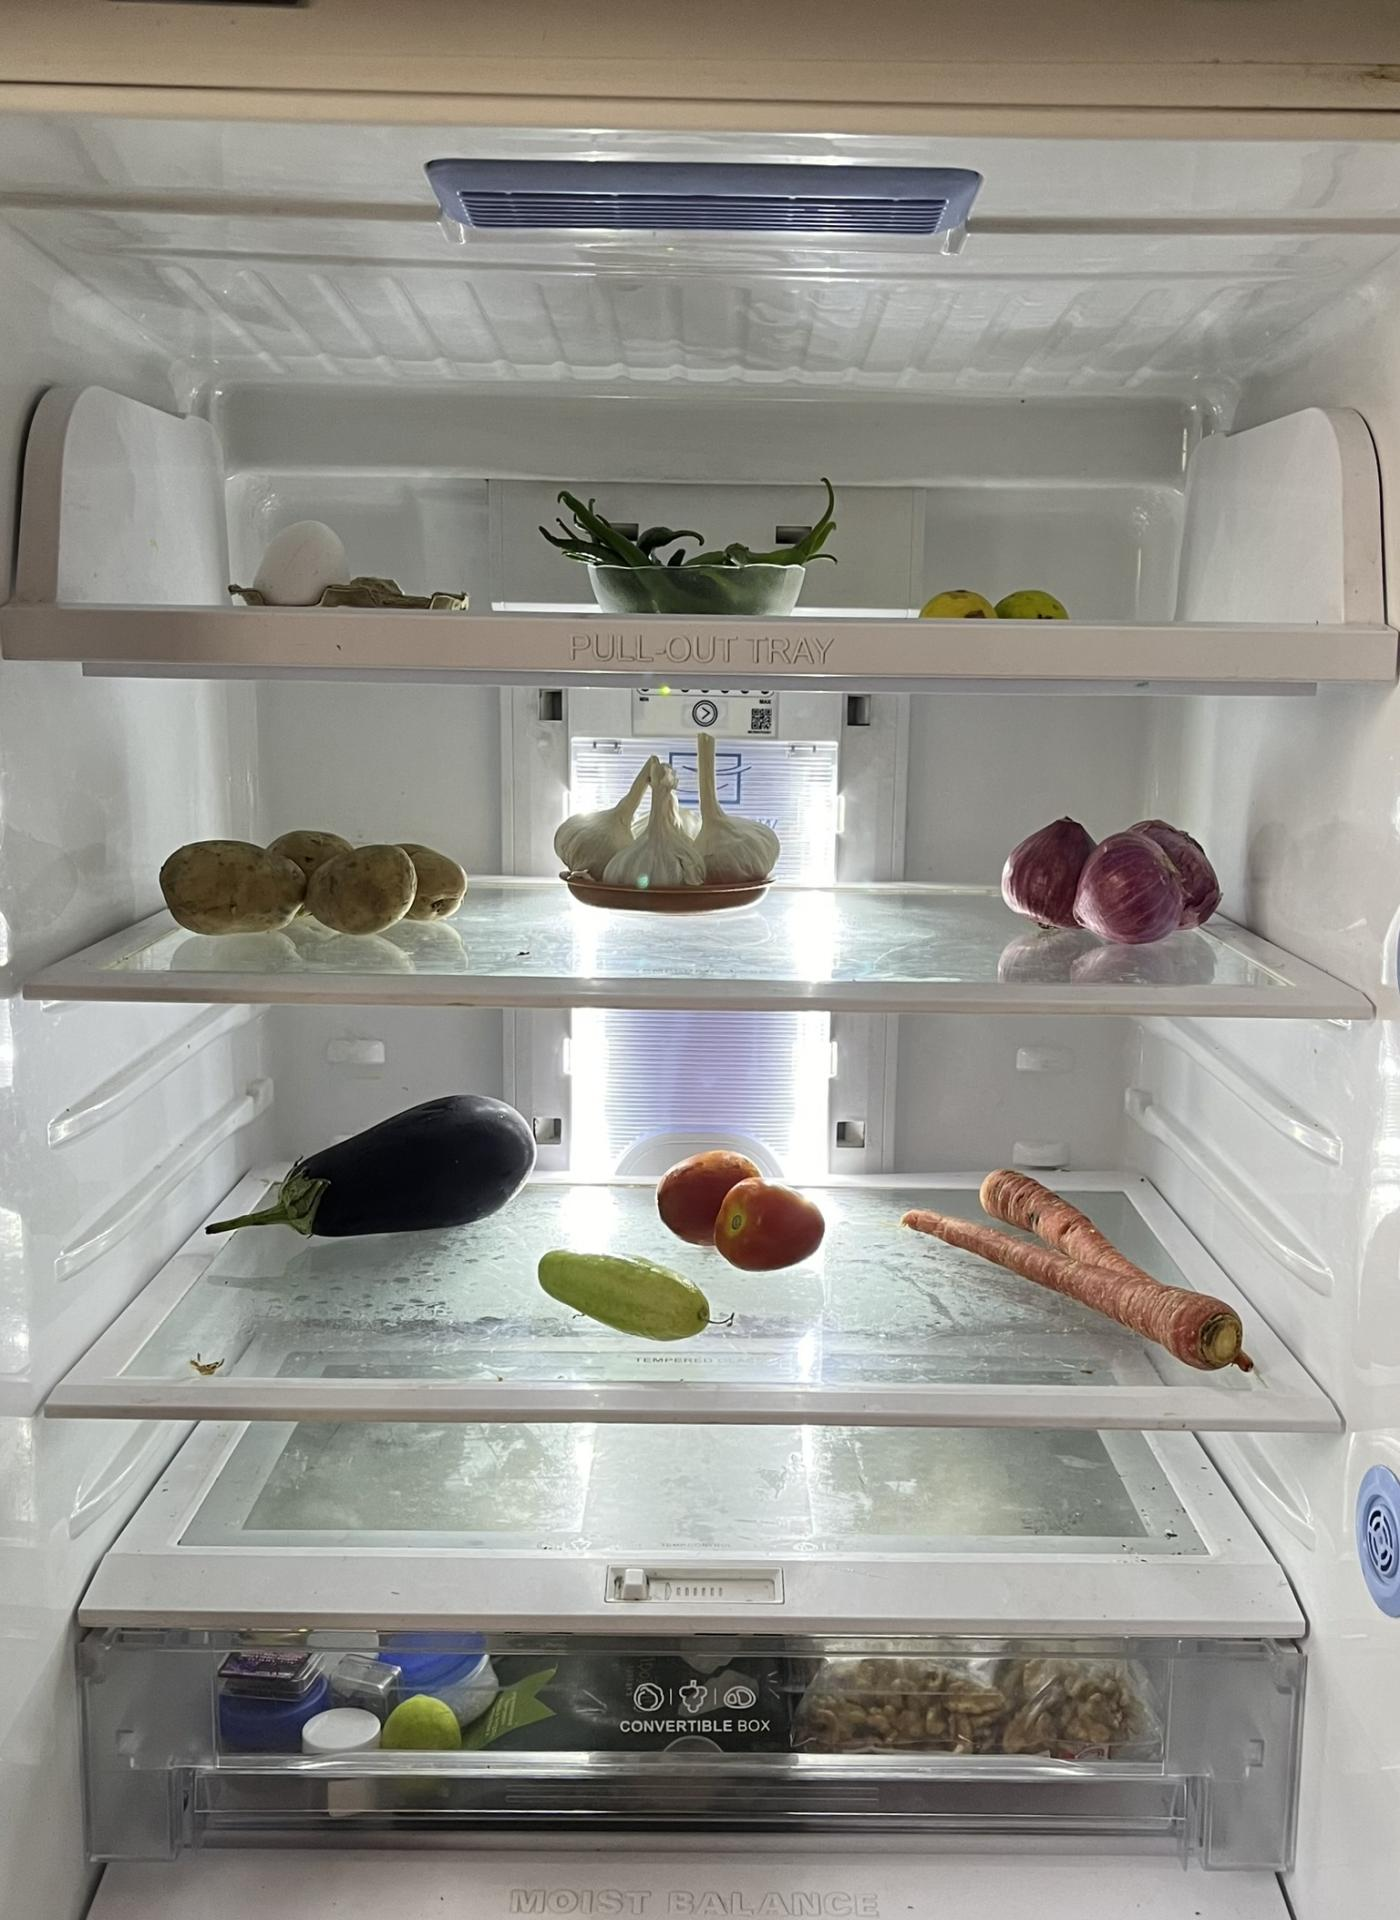brinjal: (207, 1094, 552, 1242)
carrots: (896, 1169, 1255, 1380)
chillies: (565, 484, 845, 619)
cucumber: (532, 1246, 723, 1343)
egg: (249, 522, 343, 610)
garlic: (553, 742, 783, 896)
lemon: (923, 584, 1069, 622)
onion: (1005, 814, 1226, 953)
potato: (155, 824, 468, 935)
tomato: (653, 1149, 820, 1269)
